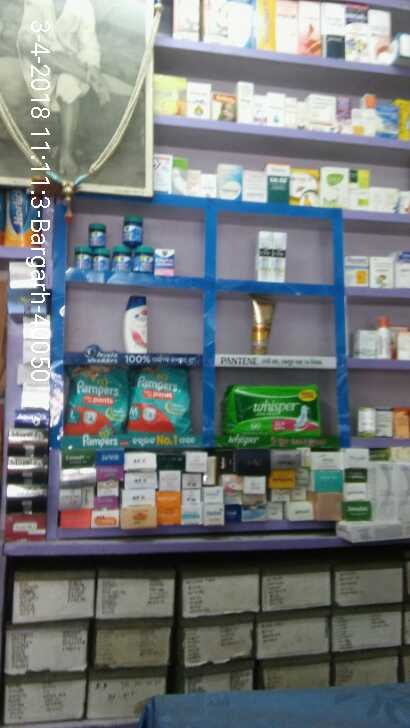vicks: (73, 211, 178, 275)
